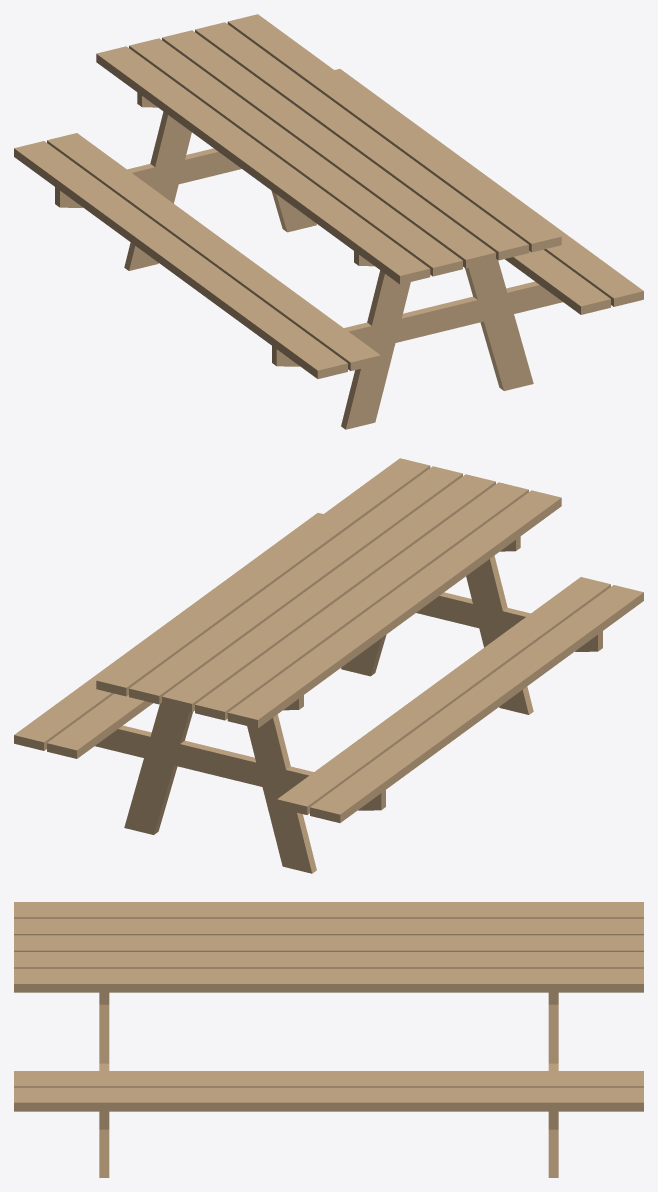
The model's file is picnic-bench.glb.
3 views of the same model, one above another, from view 1: azimuth 30°, elevation 25°; view 2: azimuth 150°, elevation 25°; view 3: azimuth 270°, elevation 25° (orthographic). The views are drawn at different scales.
Visible parts, largest first — view 1: picnic-bench; view 2: picnic-bench; view 3: picnic-bench.
Boxes of the visible parts, x1,y1,x2,y2 form: picnic-bench: (14, 14, 643, 429); picnic-bench: (14, 458, 643, 873); picnic-bench: (14, 902, 643, 1177).
Bounding box in the file's own units: 1.38 × 0.7281 × 2.22.
1 material, 1 textured.
